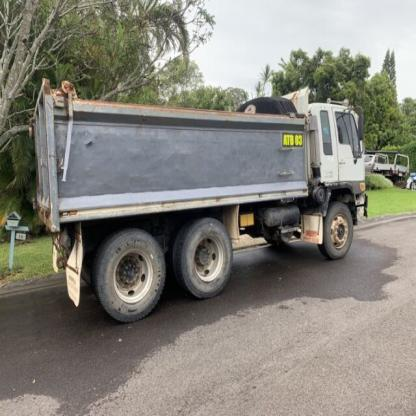dump_truck: (27, 58, 375, 341)
